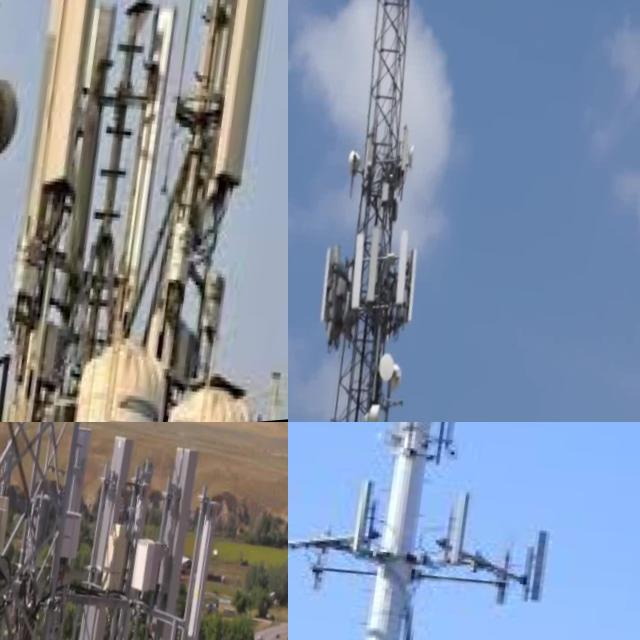GSM Antenna: (89, 1, 187, 355), (22, 0, 123, 202), (57, 422, 147, 640), (122, 443, 212, 640), (197, 0, 288, 193), (161, 498, 233, 640), (49, 425, 101, 594), (512, 537, 558, 614), (331, 479, 375, 559), (438, 491, 475, 575), (338, 232, 370, 318), (383, 228, 414, 313), (309, 248, 338, 335), (0, 482, 19, 603), (393, 252, 421, 334), (356, 227, 384, 308), (393, 128, 411, 181)
Microwave Antenna: (0, 59, 29, 183), (340, 146, 364, 191), (369, 349, 394, 387), (382, 365, 405, 402), (401, 148, 416, 178), (356, 405, 380, 422)
